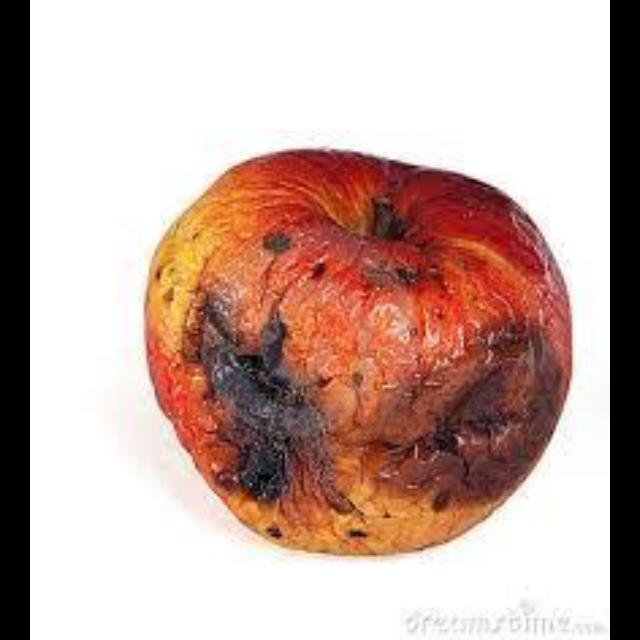apple: (144, 149, 570, 553)
rotten: (144, 149, 570, 553)
